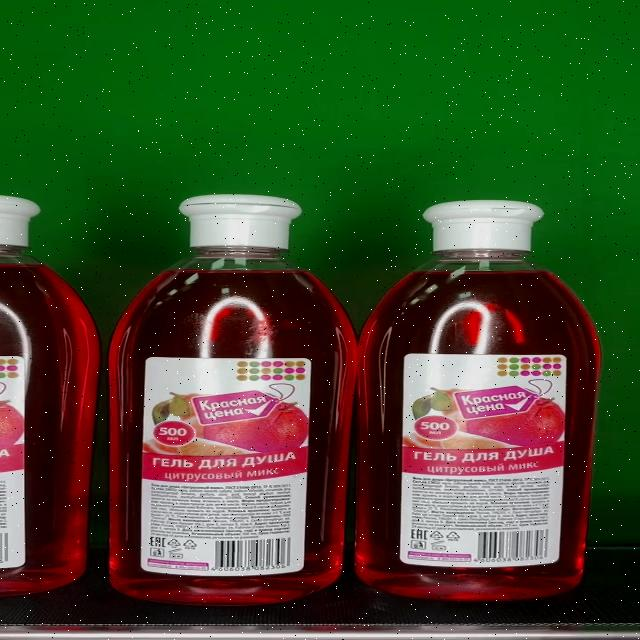Bottle: (108, 195, 358, 606), (354, 200, 604, 602)
Cap: (421, 201, 545, 254), (180, 195, 303, 248)
